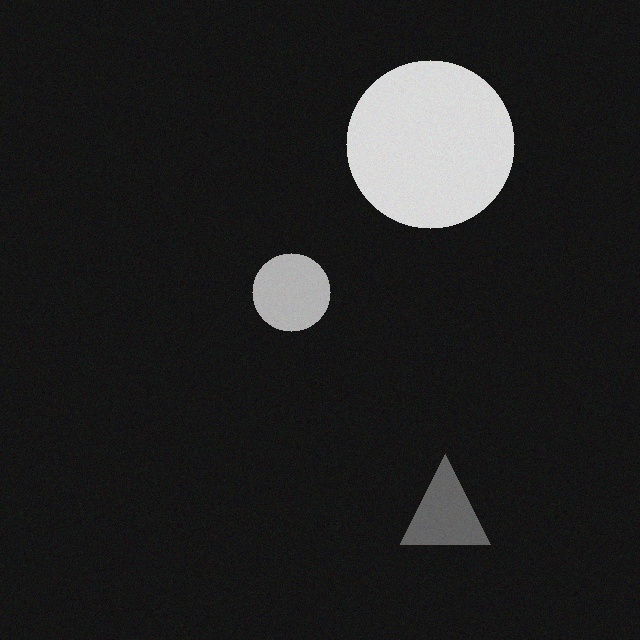circle: (355, 73, 523, 241), (261, 266, 339, 344)
triangle: (409, 467, 499, 557)
